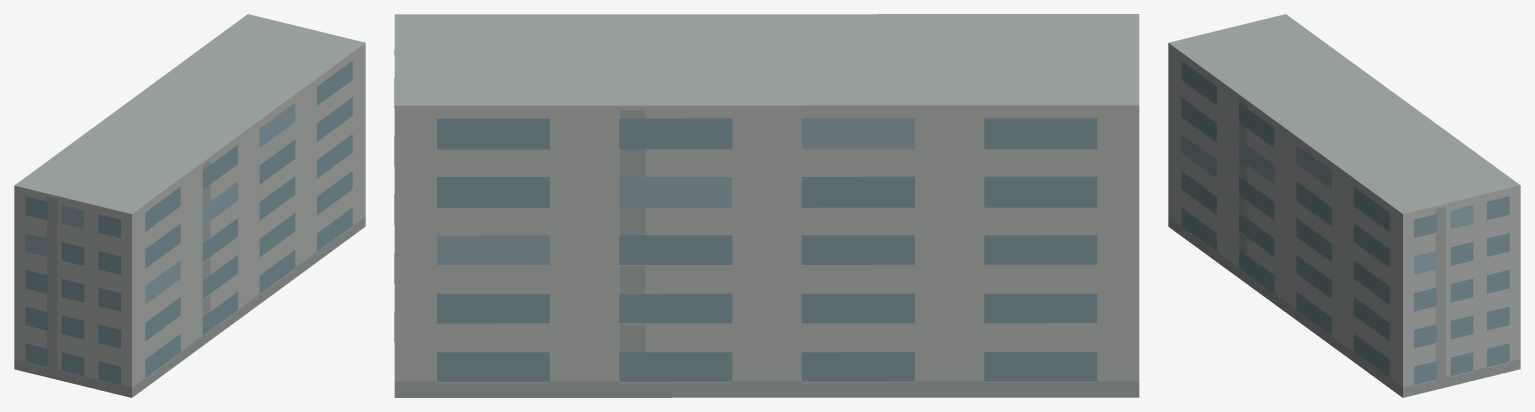
File: residential-73aa691f-e7fb-4f6a-a237-f88635477992.glb
3 renders of one model, left to right at view 1: azimuth 30°, elevation 25°; view 2: azimuth 150°, elevation 25°; view 3: azimuth 270°, elevation 25°, orthographic. The views are drawn at different scales.
Parts seen in each view (by area): view 1: residential-73aa691f-e7fb-4f6a-a237-f88635477992.tmp; view 2: residential-73aa691f-e7fb-4f6a-a237-f88635477992.tmp; view 3: residential-73aa691f-e7fb-4f6a-a237-f88635477992.tmp.
Boxes of the visible parts, left/top/right/bottom form: residential-73aa691f-e7fb-4f6a-a237-f88635477992.tmp: left=14, top=14, right=365, bottom=397; residential-73aa691f-e7fb-4f6a-a237-f88635477992.tmp: left=394, top=14, right=1139, bottom=397; residential-73aa691f-e7fb-4f6a-a237-f88635477992.tmp: left=1168, top=14, right=1520, bottom=397.
Bounding box in the file's own units: 35.61 × 15.25 × 26.5.
